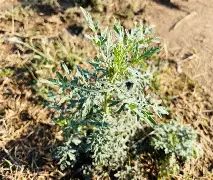weed: (67, 34, 200, 169)
